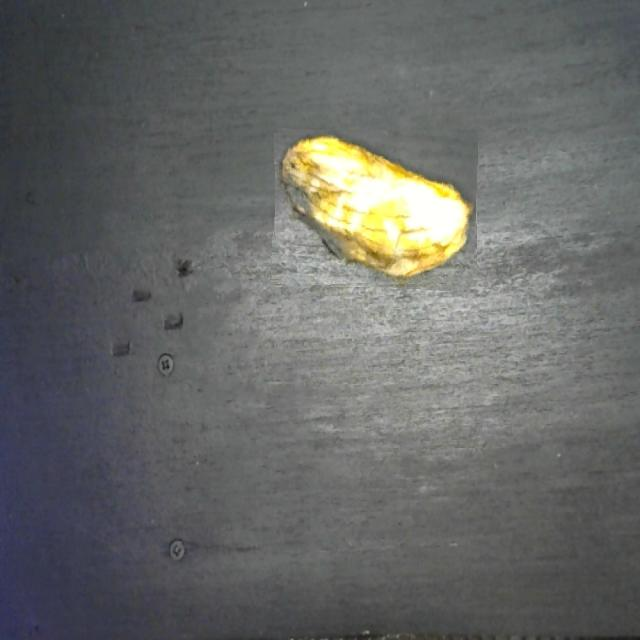biodegradable: (272, 130, 477, 290)
